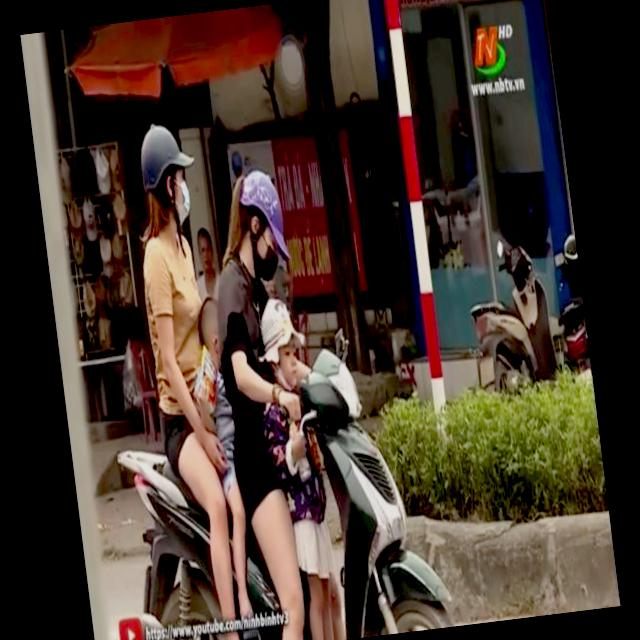motorcycle: (107, 336, 448, 640)
person: (116, 111, 266, 640), (198, 155, 343, 640), (247, 296, 356, 636)
rider_region: (75, 86, 457, 640)
